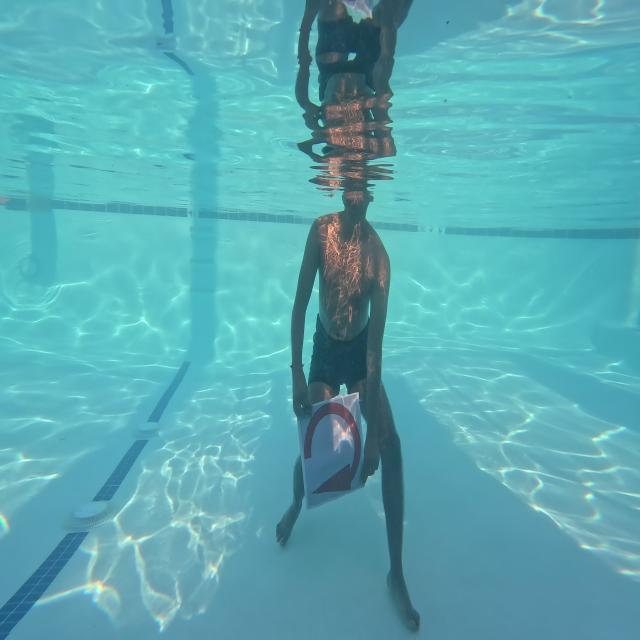red_side: (302, 394, 364, 508)
